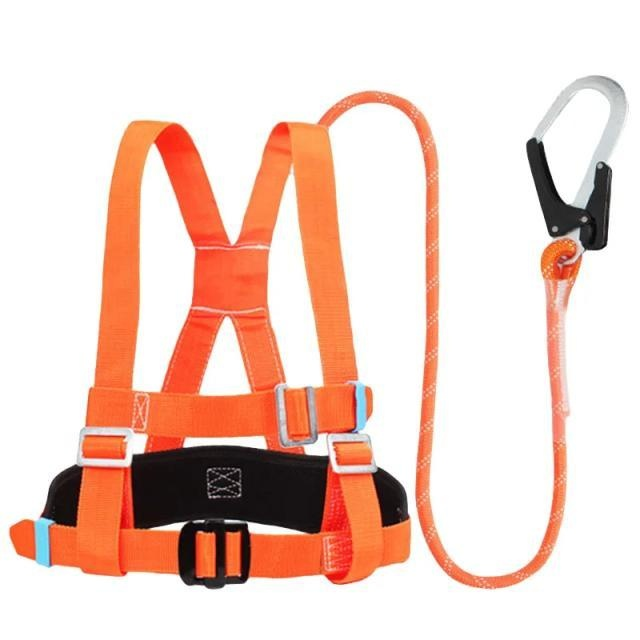Arnes_seguridad: (7, 117, 415, 589)
